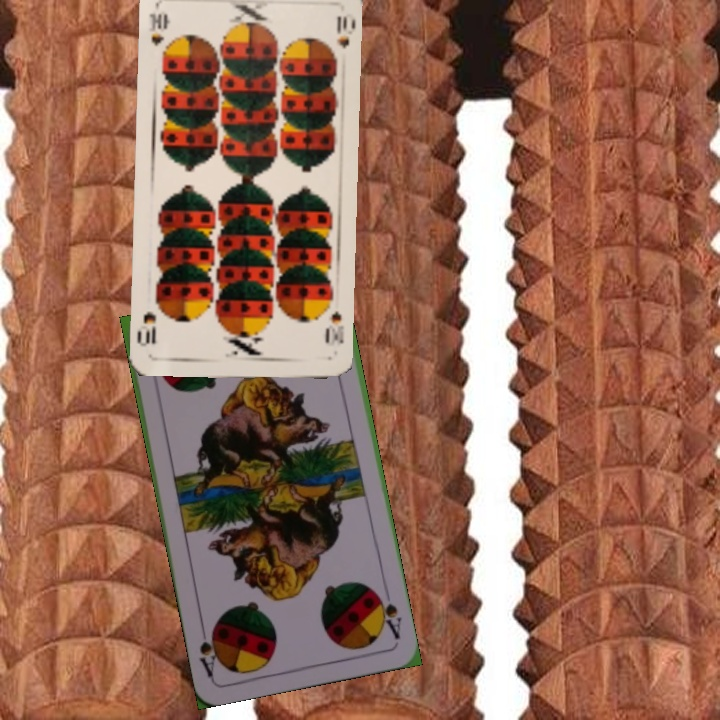S10: (145, 9, 170, 49), (321, 306, 346, 346)
SA: (371, 587, 405, 642)
